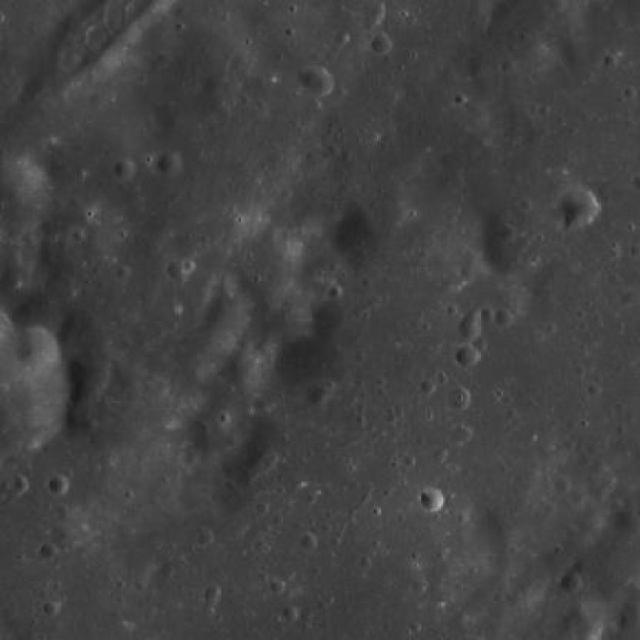crater: (60, 348, 178, 464), (0, 331, 72, 457), (42, 0, 138, 91), (0, 163, 58, 238), (218, 345, 266, 393), (202, 290, 250, 338), (71, 348, 114, 392), (19, 327, 62, 370), (558, 188, 600, 230), (299, 64, 333, 98), (49, 520, 80, 551), (420, 488, 446, 514), (456, 344, 481, 368), (308, 382, 332, 406), (458, 321, 482, 344), (160, 152, 183, 175), (562, 572, 584, 594), (450, 388, 472, 410), (116, 158, 138, 180), (37, 540, 59, 562), (51, 474, 71, 494), (373, 34, 393, 54), (453, 426, 472, 444), (168, 260, 187, 278), (202, 582, 220, 601), (179, 448, 198, 466), (300, 534, 318, 552), (623, 289, 640, 308), (554, 476, 572, 493), (420, 380, 438, 397), (13, 478, 32, 494), (497, 309, 514, 326), (283, 606, 300, 622), (269, 576, 285, 592)
